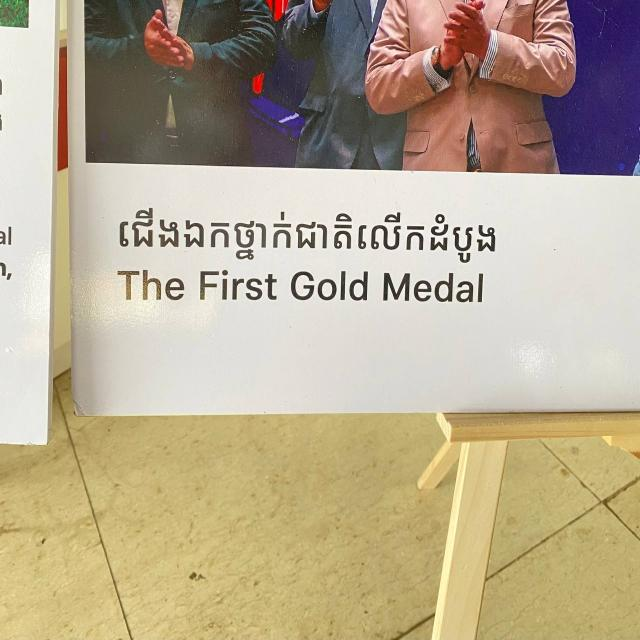Yolov11_80vkh: (110, 202, 506, 267)
